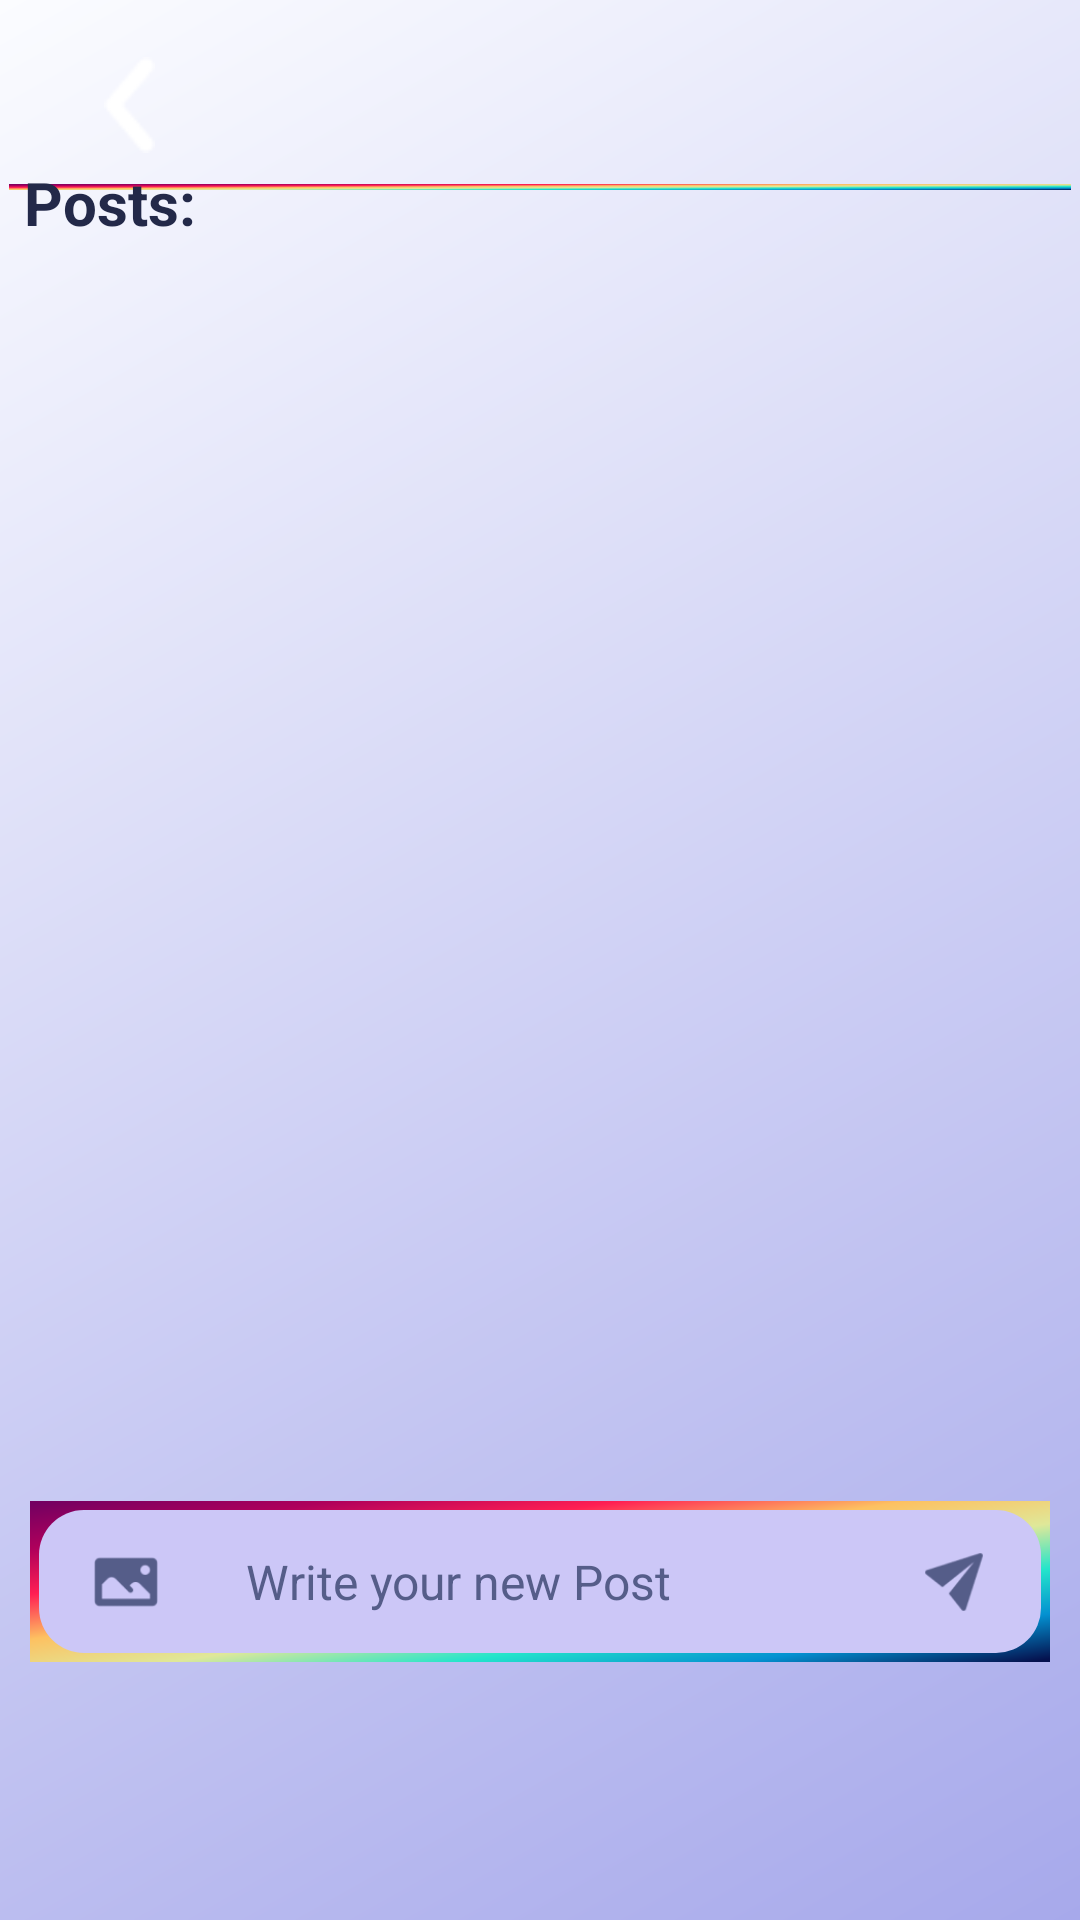

Icon click points for this 1080w x 1920h phone screenshot, format point (x, y):
Select Image: point (126, 1582)
Send: point (954, 1582)
